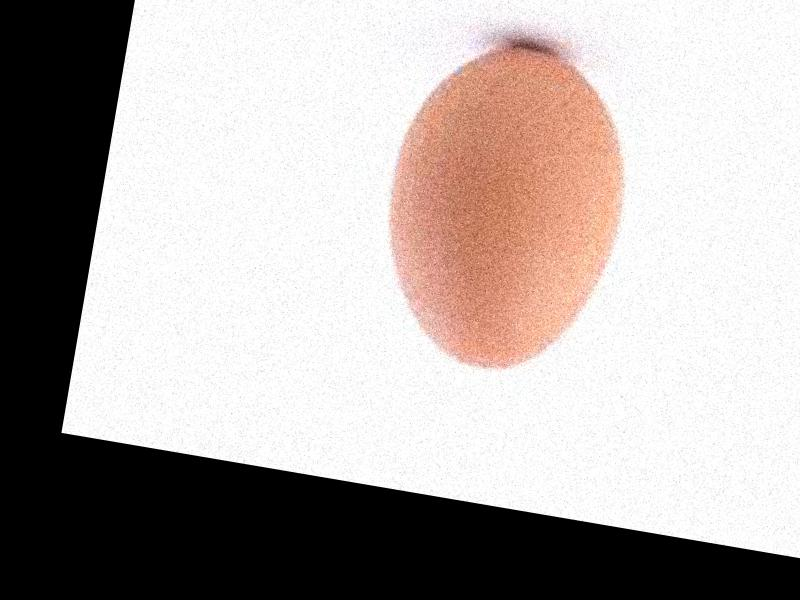Eggs: (361, 30, 642, 388)
